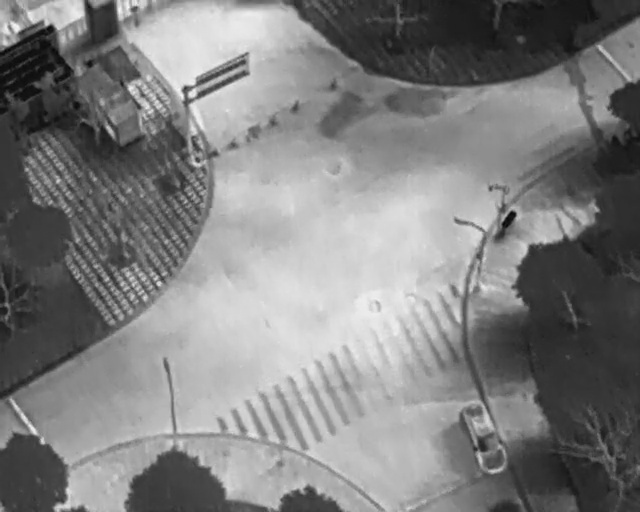Car: (455, 397, 513, 478)
